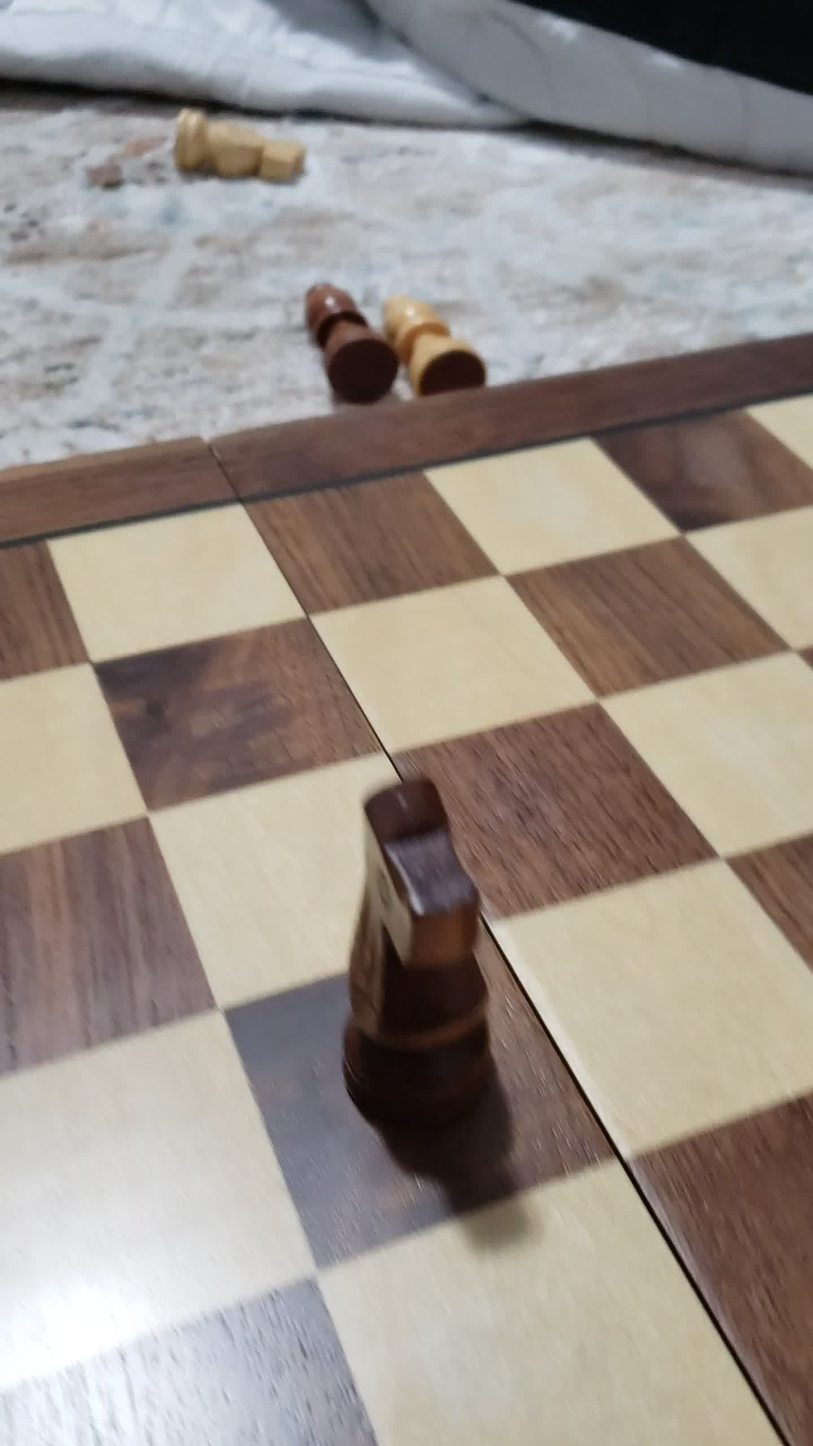black-knight: (302, 757, 543, 1152)
